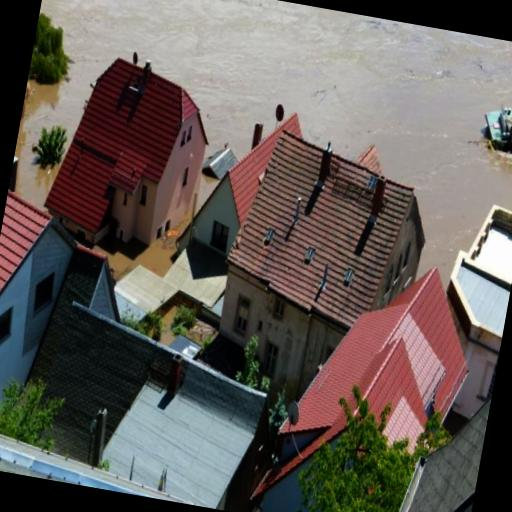flood: (14, 0, 512, 281)
house: (188, 104, 448, 428), (277, 246, 488, 466), (40, 48, 228, 275), (84, 335, 276, 512), (0, 175, 85, 430), (439, 196, 512, 360), (477, 95, 512, 161)
